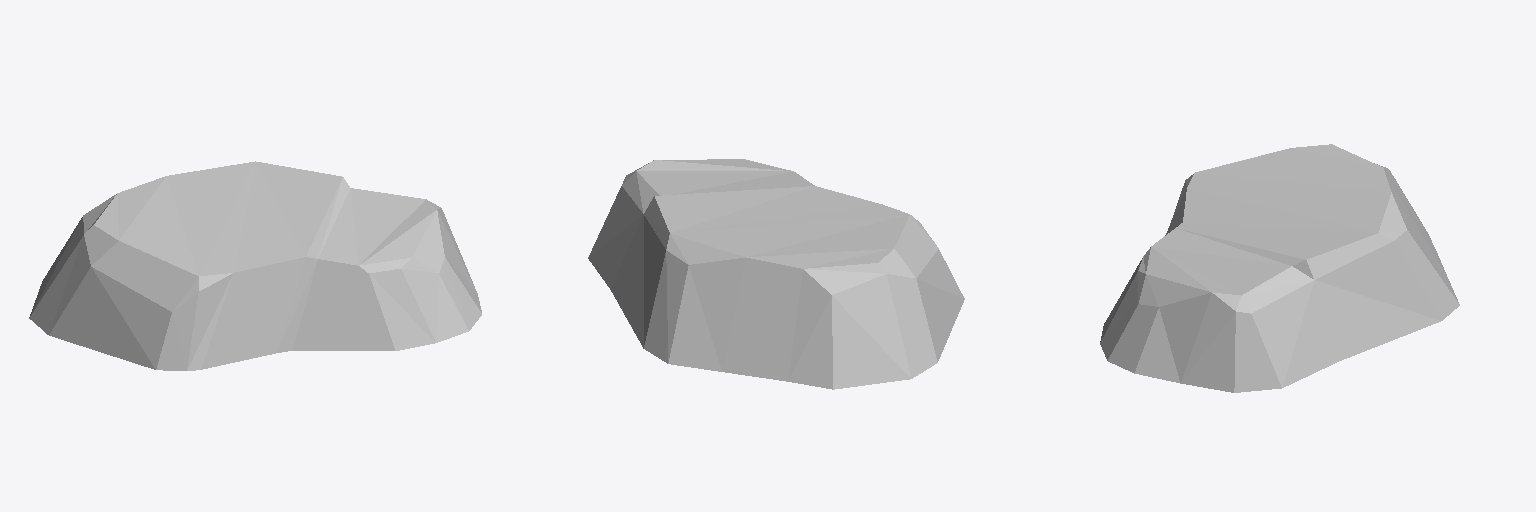
Rendered from Pebble_Round_5.obj.
3 renders of one model, left to right at view 1: azimuth 30°, elevation 25°; view 2: azimuth 150°, elevation 25°; view 3: azimuth 270°, elevation 25°, orthographic.
Visible parts, largest first — view 1: Pebble_Round_5; view 2: Pebble_Round_5; view 3: Pebble_Round_5.
Part boxes in pixels (x1,y1,x2,y2): Pebble_Round_5: (29, 161, 481, 370); Pebble_Round_5: (588, 159, 964, 389); Pebble_Round_5: (1100, 144, 1459, 392).
Bounding box in the file's own units: 0.4186 × 0.1008 × 0.3463.